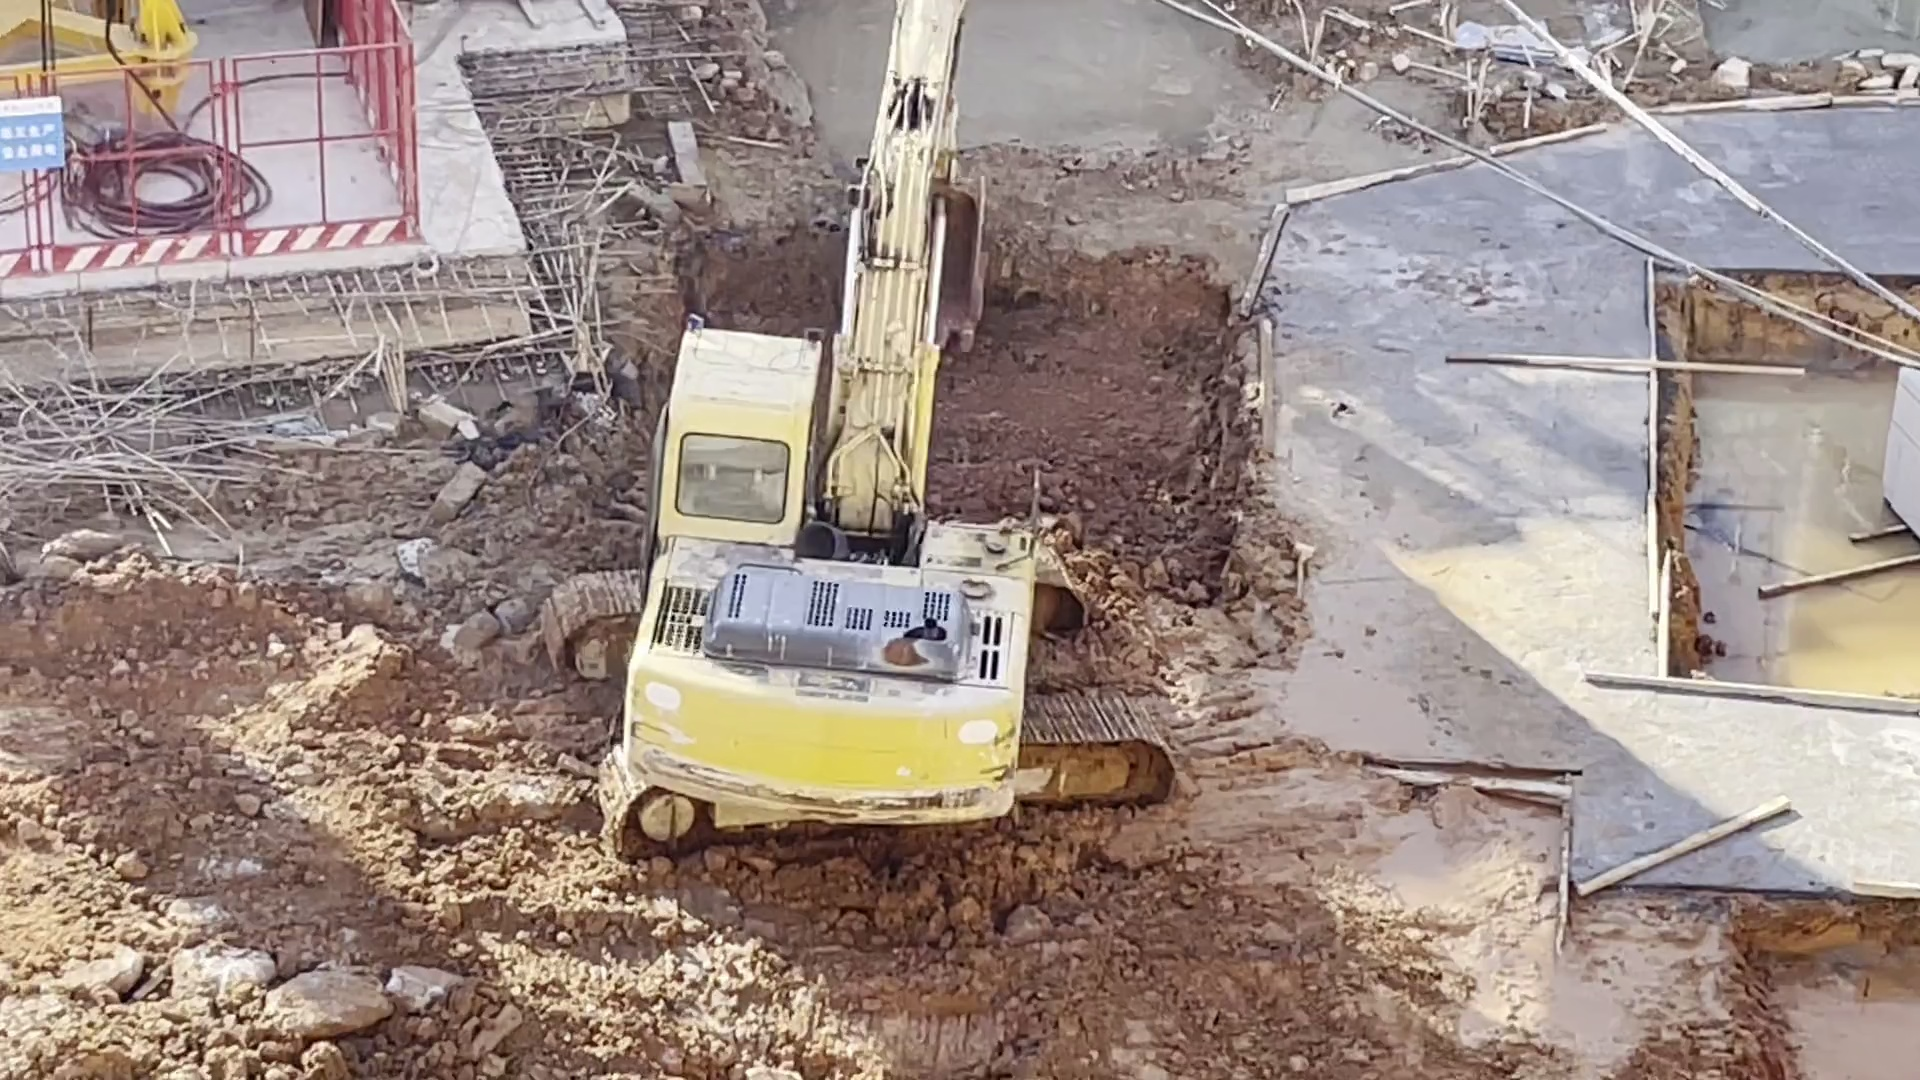fence: (1, 40, 410, 274), (328, 3, 429, 256)
slogan: (3, 98, 65, 171)
